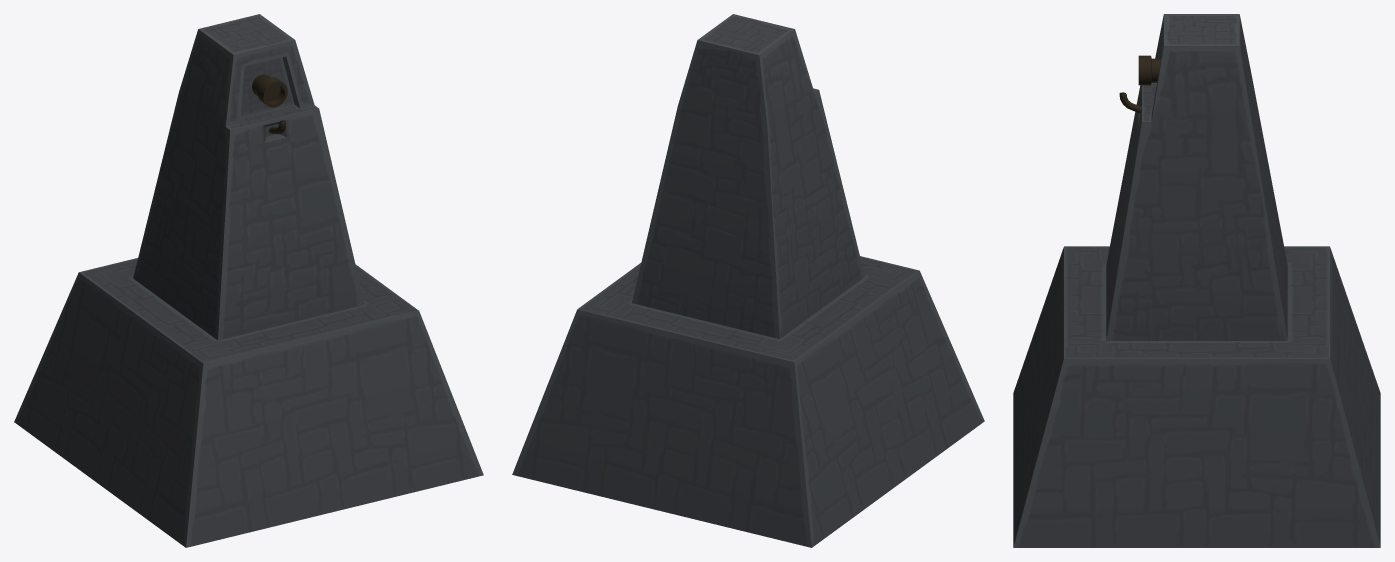
Rendered from FlamerMesh.fbx.
The picture shows the model from 3 angles, left to right: view 1: azimuth 30°, elevation 25°; view 2: azimuth 150°, elevation 25°; view 3: azimuth 270°, elevation 25°; orthographic projection. The views are drawn at different scales.
Parts seen in each view (by area): view 1: pCube3; view 2: pCube3; view 3: pCube3.
Part boxes in pixels (bbox=[...]): pCube3: bbox=[14, 14, 483, 547]; pCube3: bbox=[512, 14, 984, 547]; pCube3: bbox=[1013, 14, 1380, 547].
Bounding box in the file's own units: 100 × 132 × 100.
